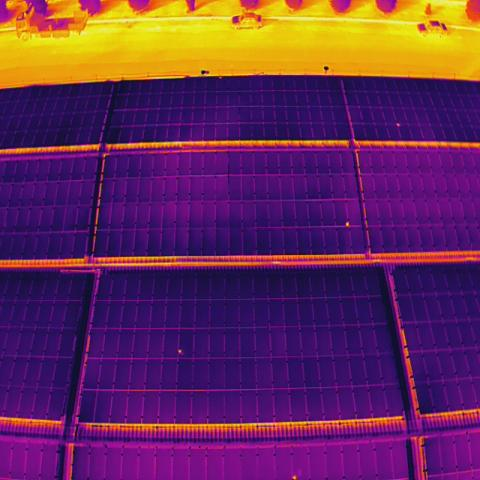fault: (344, 220, 350, 228), (291, 474, 298, 480), (396, 122, 401, 128), (178, 349, 182, 354)
